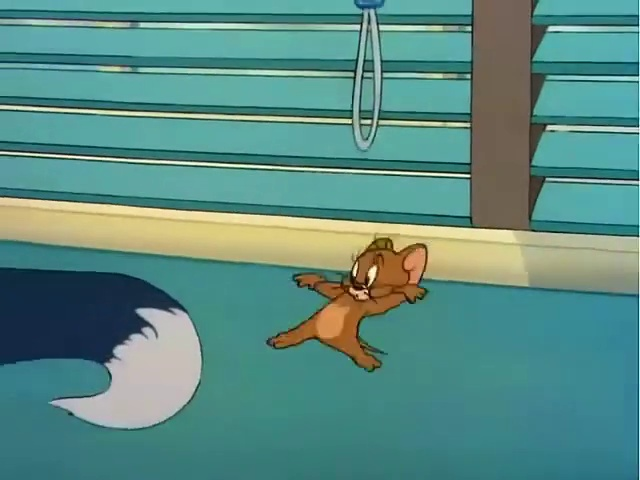jerry: (261, 220, 427, 374)
